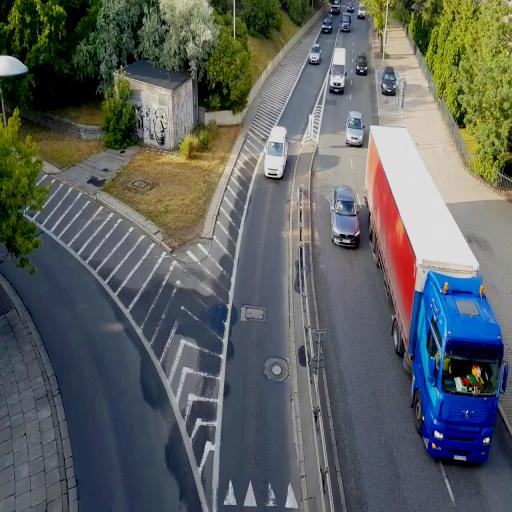vehicle: (363, 123, 507, 464), (363, 124, 507, 464), (331, 185, 361, 248), (264, 125, 288, 180), (328, 46, 346, 94), (328, 48, 346, 96), (345, 110, 364, 146), (381, 68, 398, 95), (308, 42, 322, 65), (355, 54, 369, 76), (321, 16, 334, 33)
